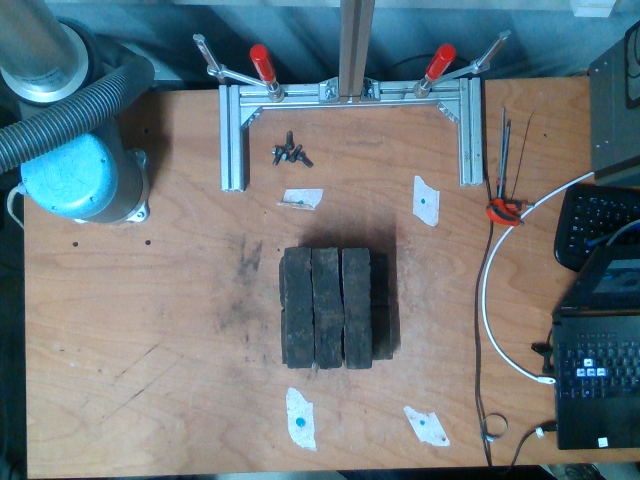brick-side: (285, 249, 313, 367), (313, 250, 341, 368), (343, 249, 370, 367)
